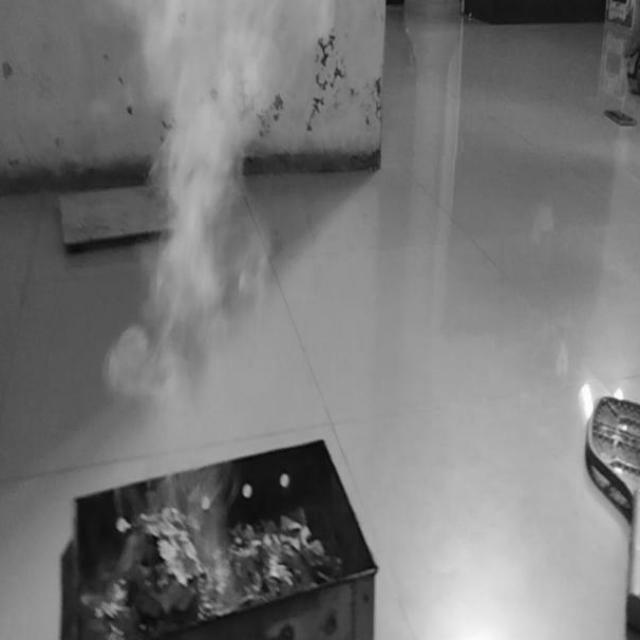fire: (147, 0, 264, 371), (100, 321, 230, 554)
